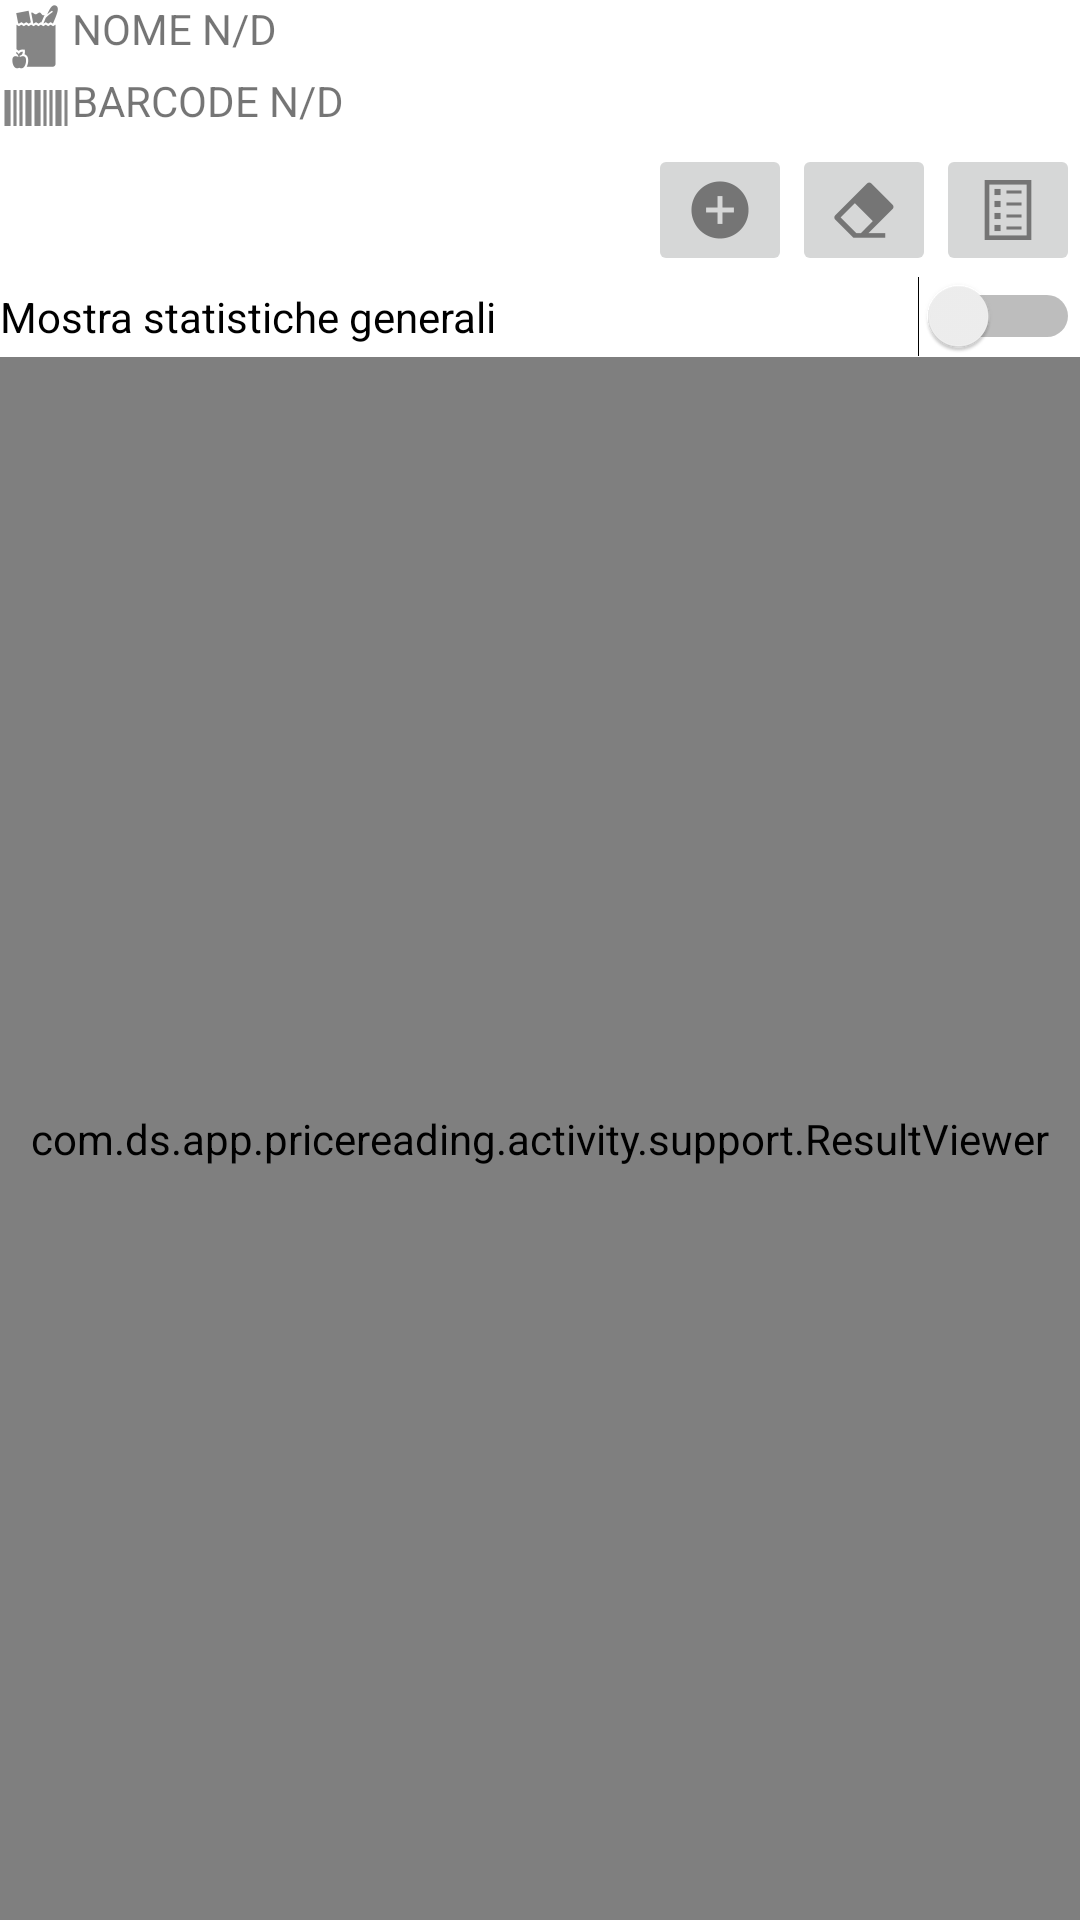

Screen size 1080 x 1920. Icon name, then its box in pixels as (x1, y1, x2, y2):
add: (660, 162, 780, 258)
clear: (804, 162, 924, 258)
grocerybag: (12, 5, 58, 69)
list: (948, 162, 1068, 258)
